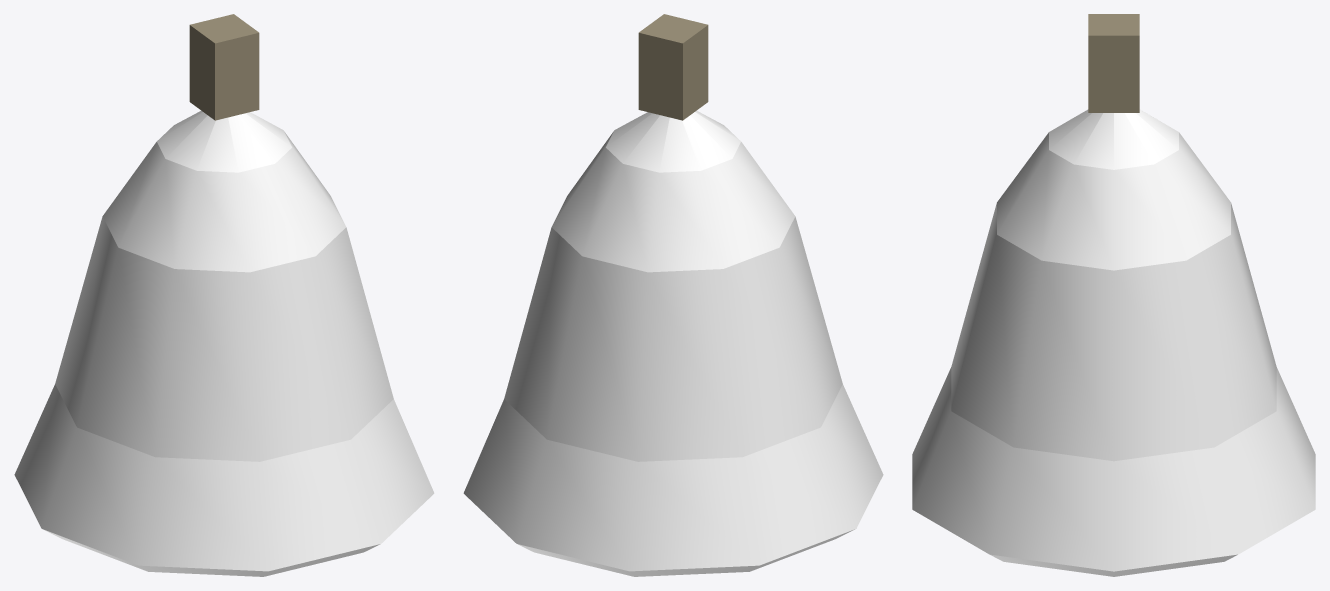
The model's file is bell_large.glb.
The picture shows the model from 3 angles, left to right: view 1: azimuth 30°, elevation 25°; view 2: azimuth 150°, elevation 25°; view 3: azimuth 270°, elevation 25°; orthographic projection.
Parts seen in each view (by area): view 1: Bell; view 2: Bell; view 3: Bell.
Part boxes in pixels (x1,y1,x2,y2): Bell: (14,14,434,576); Bell: (463,14,883,576); Bell: (912,14,1315,576).
Bounding box in the file's own units: 1.24 × 1.57 × 1.18.
